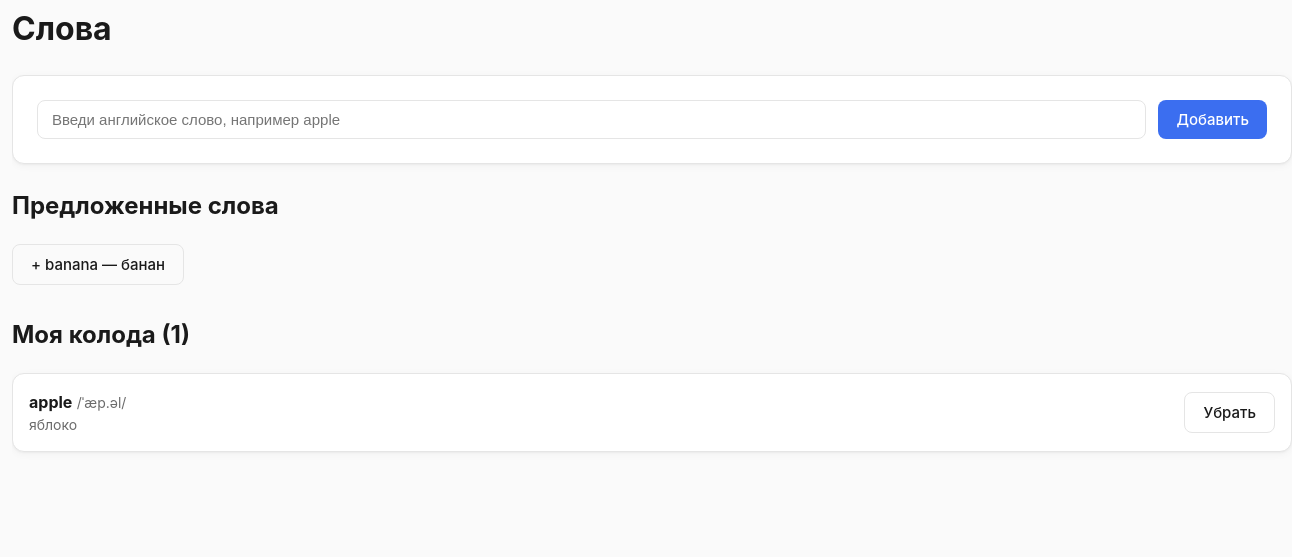
Test: Words - adding a word › submits the trimmed input, clears it, and shows the new word after refetch
This screenshot has width=1292, height=557.
Expected: the heading "Моя колода (1)" is shown, [12,320,190,349]
In the field with placeholder "Введи английское слово, например apple": x=592, y=119 [37,100,1146,139], type "  Banana  "
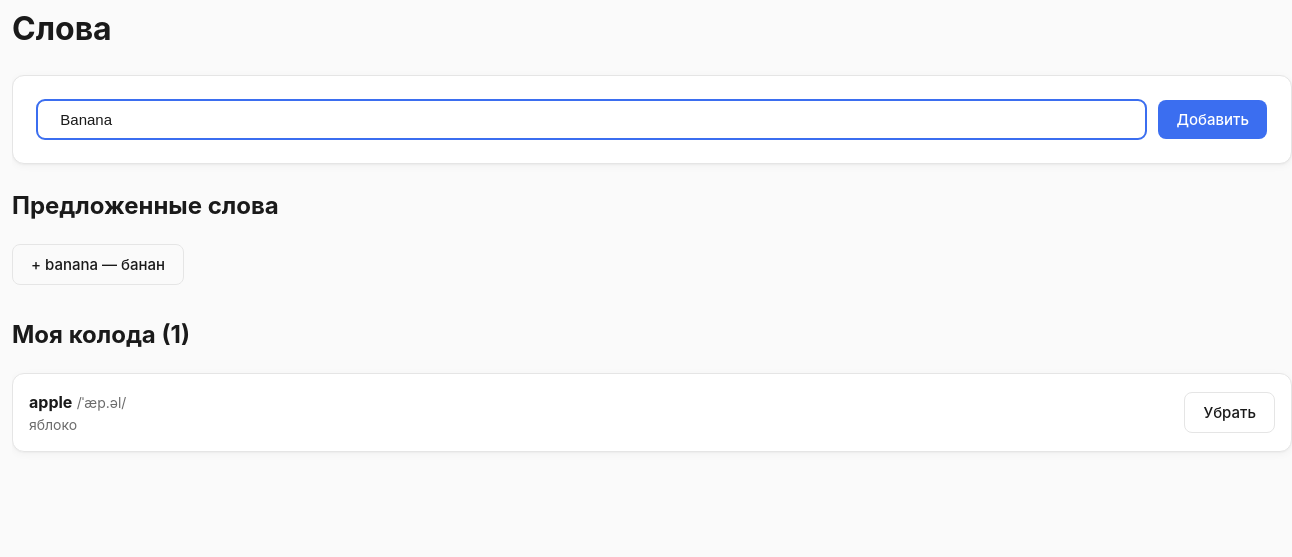
Click the button "Добавить": x=1213, y=119 [1158,100,1267,139]
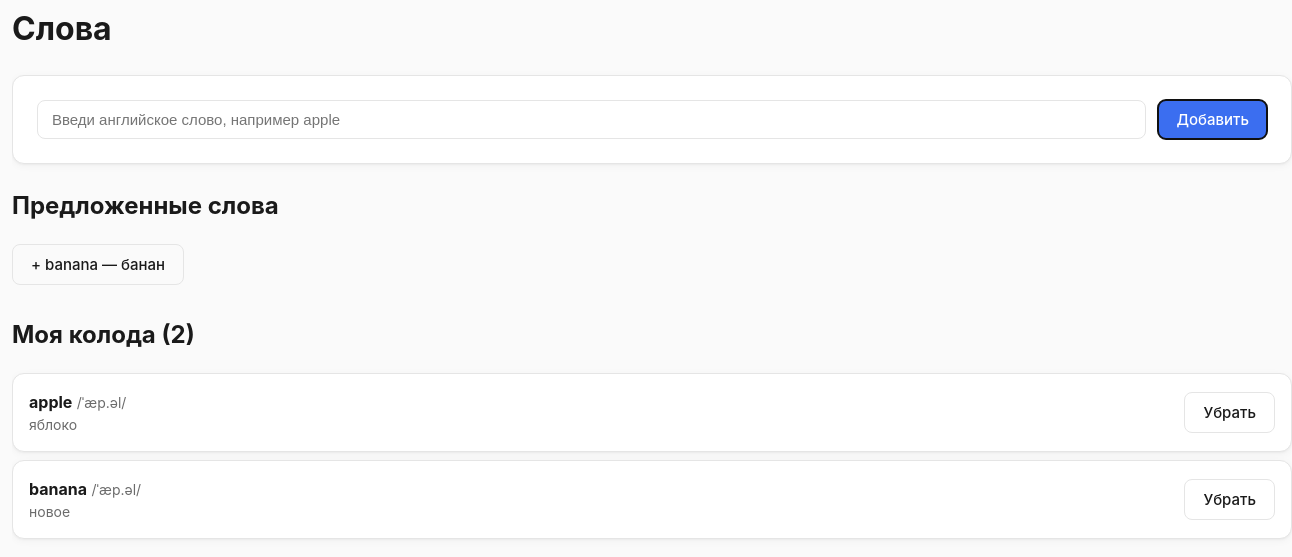
Expected: the heading "Моя колода (2)" is shown, [12,320,195,349]
Expected: the text "banana" is shown, [29,479,87,499]
Expected: the field with placeholder "Введи английское слово, например apple" is empty, [37,100,1146,139]
